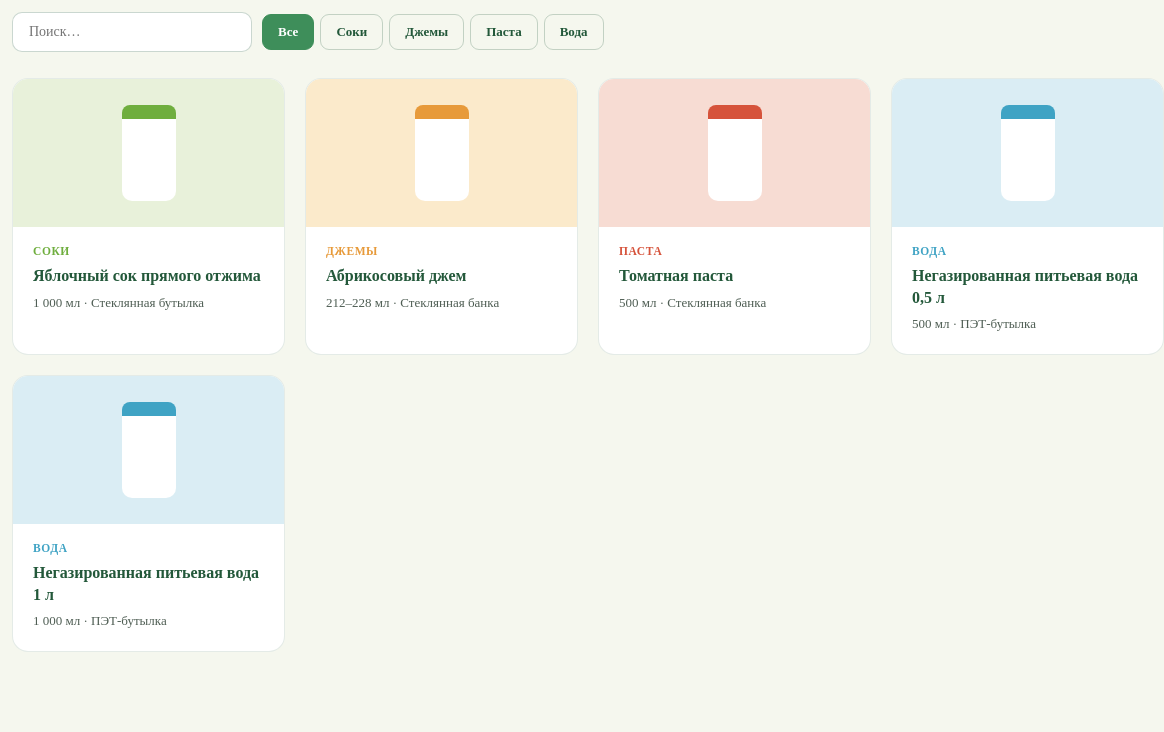
Test: Catalogue › says nothing was found rather than showing an empty grid
In the search field named "Поиск по продукции": (132, 32) [12,12,252,52], type "ничего"
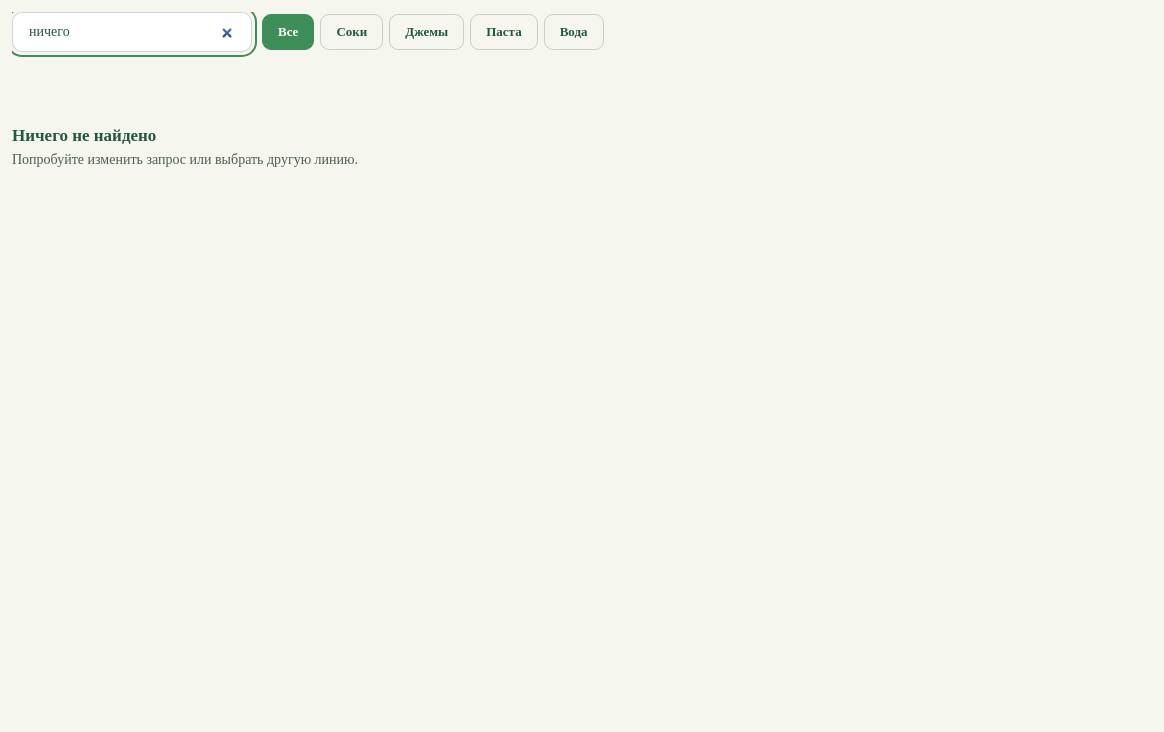
Expected: the element with test id "catalogue-no-match" is shown, [12,126,358,167]
Expected: the list item with test id "catalogue-card" is gone
